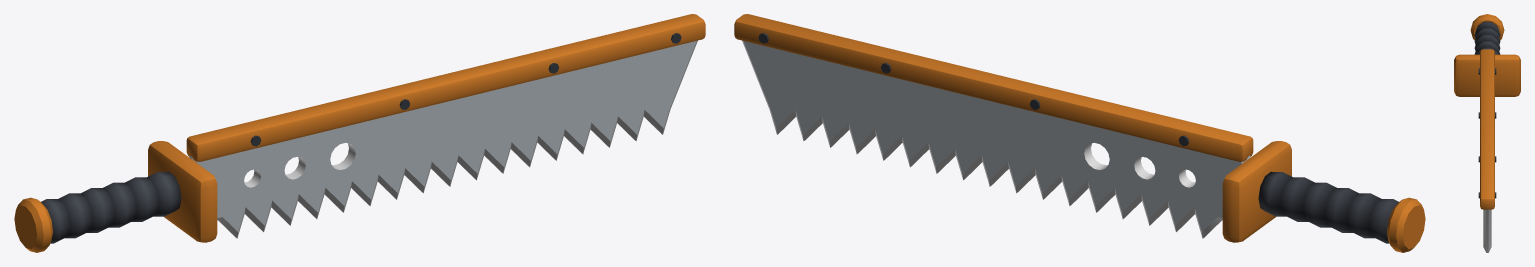
The model's file is sword_saw.glb.
The picture shows the model from 3 angles, left to right: view 1: azimuth 30°, elevation 25°; view 2: azimuth 150°, elevation 25°; view 3: azimuth 270°, elevation 25°; orthographic projection. The views are drawn at different scales.
Visible parts, largest first — view 1: sword_saw; view 2: sword_saw; view 3: sword_saw.
Part boxes in pixels (x1=…): sword_saw: x1=14, y1=14, x2=705, y2=252; sword_saw: x1=734, y1=14, x2=1425, y2=252; sword_saw: x1=1454, y1=14, x2=1520, y2=252.
Bounding box in the file's own units: 1.27 × 0.196 × 0.18.
